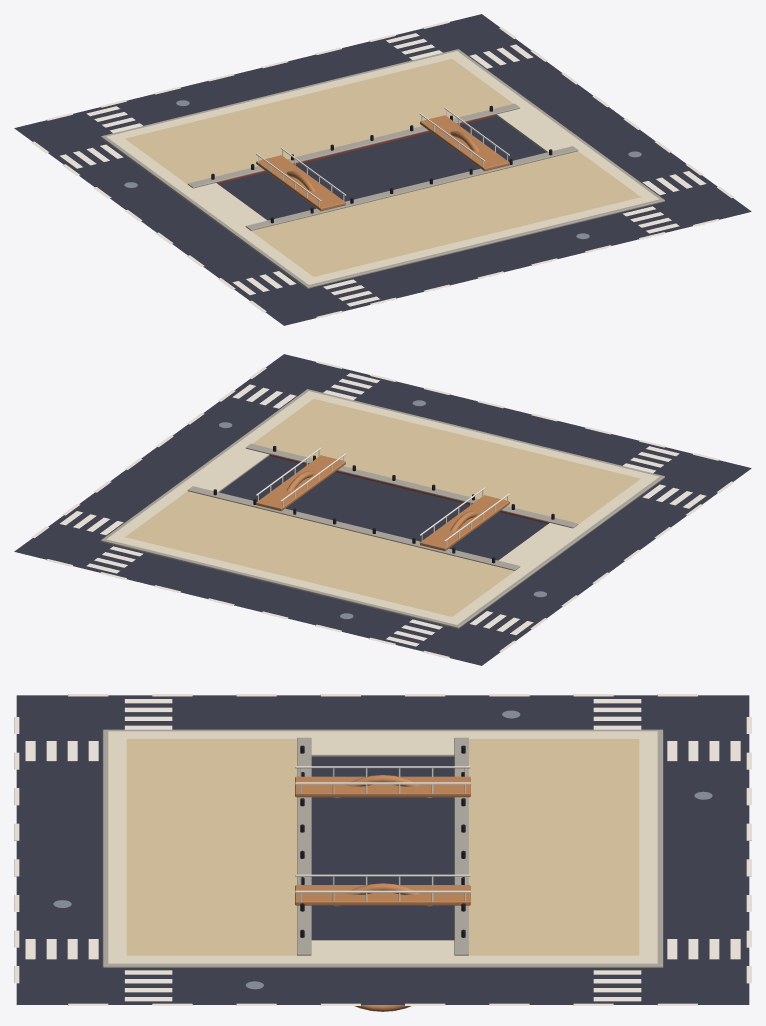
Rendered from tile_canal.glb.
The picture shows the model from 3 angles, top to bottom: view 1: azimuth 30°, elevation 25°; view 2: azimuth 150°, elevation 25°; view 3: azimuth 270°, elevation 25°; orthographic projection. The views are drawn at different scales.
Visible parts, largest first — view 1: tile_canal; view 2: tile_canal; view 3: tile_canal.
Part boxes in pixels (x1=…): tile_canal: x1=14, y1=14, x2=751, y2=325; tile_canal: x1=14, y1=354, x2=751, y2=665; tile_canal: x1=14, y1=694, x2=751, y2=1011.
Bounding box in the file's own units: 40.3 × 7.75 × 40.3.
Materials: 1 (1 with a texture image).
